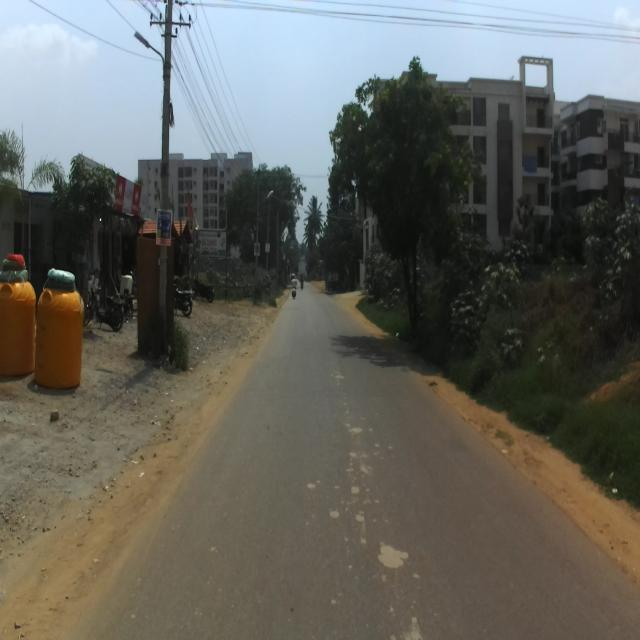barrier ahead at: (35, 257, 86, 403)
electric pole ahead at: (142, 0, 188, 367)
